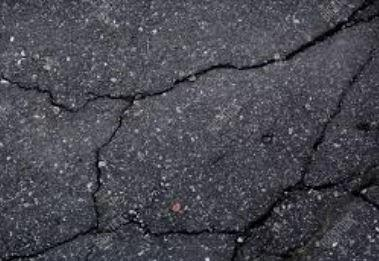alligator-crack: (5, 13, 376, 250)
